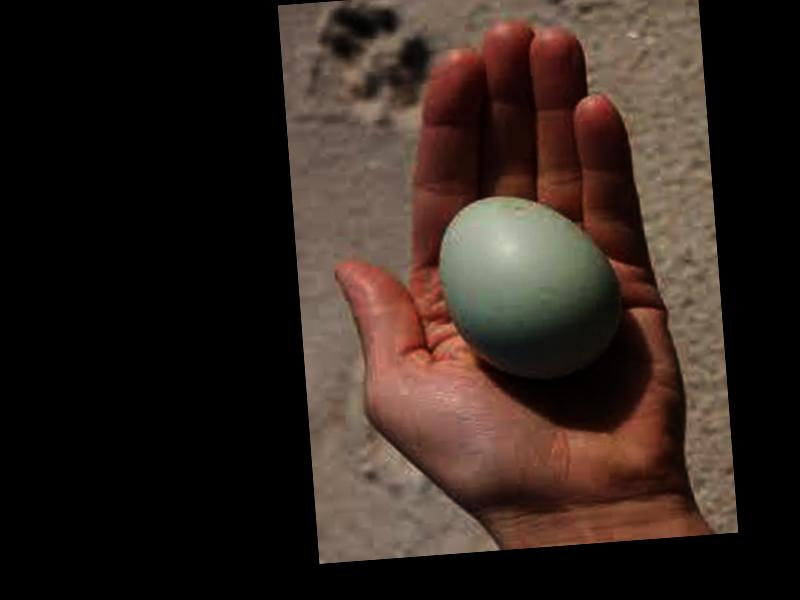Eggs: (435, 185, 624, 382)
